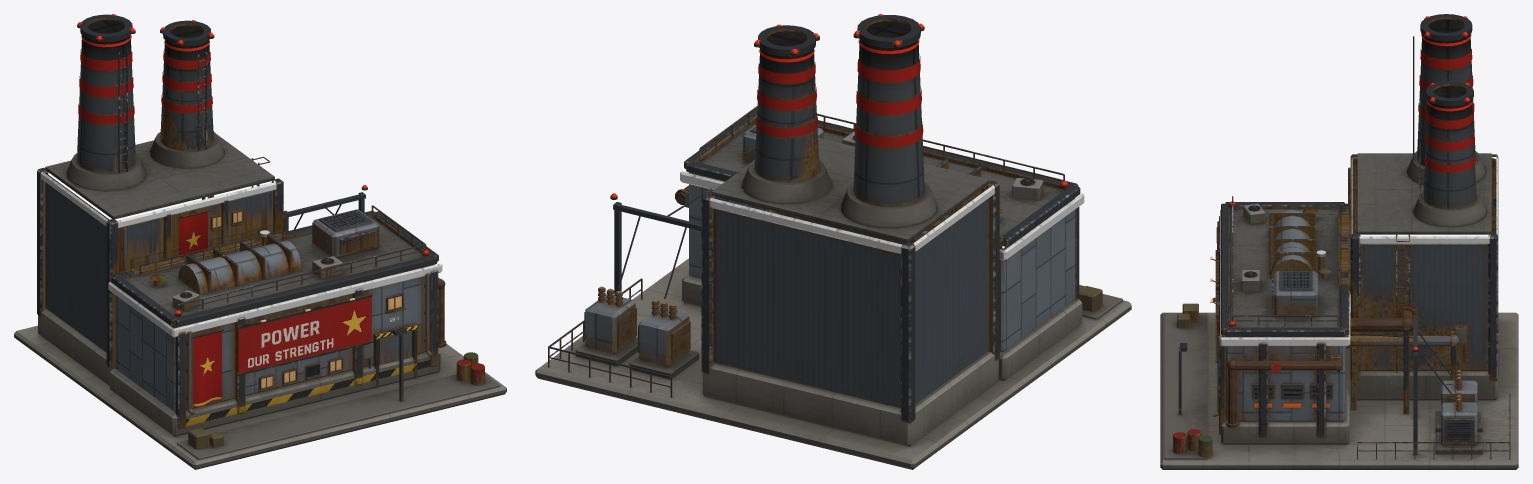
Rendered from powr.soviet.glb.
3 views of the same model, side by side, from view 1: azimuth 30°, elevation 25°; view 2: azimuth 150°, elevation 25°; view 3: azimuth 270°, elevation 25° (orthographic). The views are drawn at different scales.
Parts seen in each view (by area): view 1: root_mesh; view 2: root_mesh; view 3: root_mesh.
Boxes of the visible parts, <box> form: root_mesh: <box>14,14,506,469</box>; root_mesh: <box>535,14,1131,469</box>; root_mesh: <box>1160,14,1518,469</box>.
Size of the model in its own units: 1.98 by 1.97 by 1.98.
Materials: 1 (1 with a texture image).
